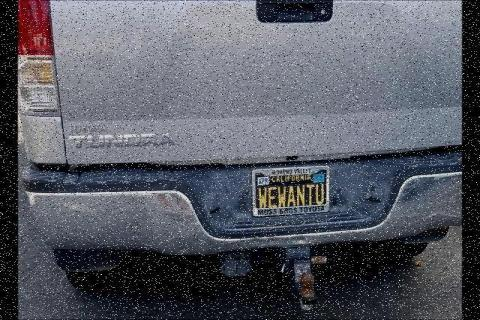LicensePlate: (253, 164, 330, 220)
